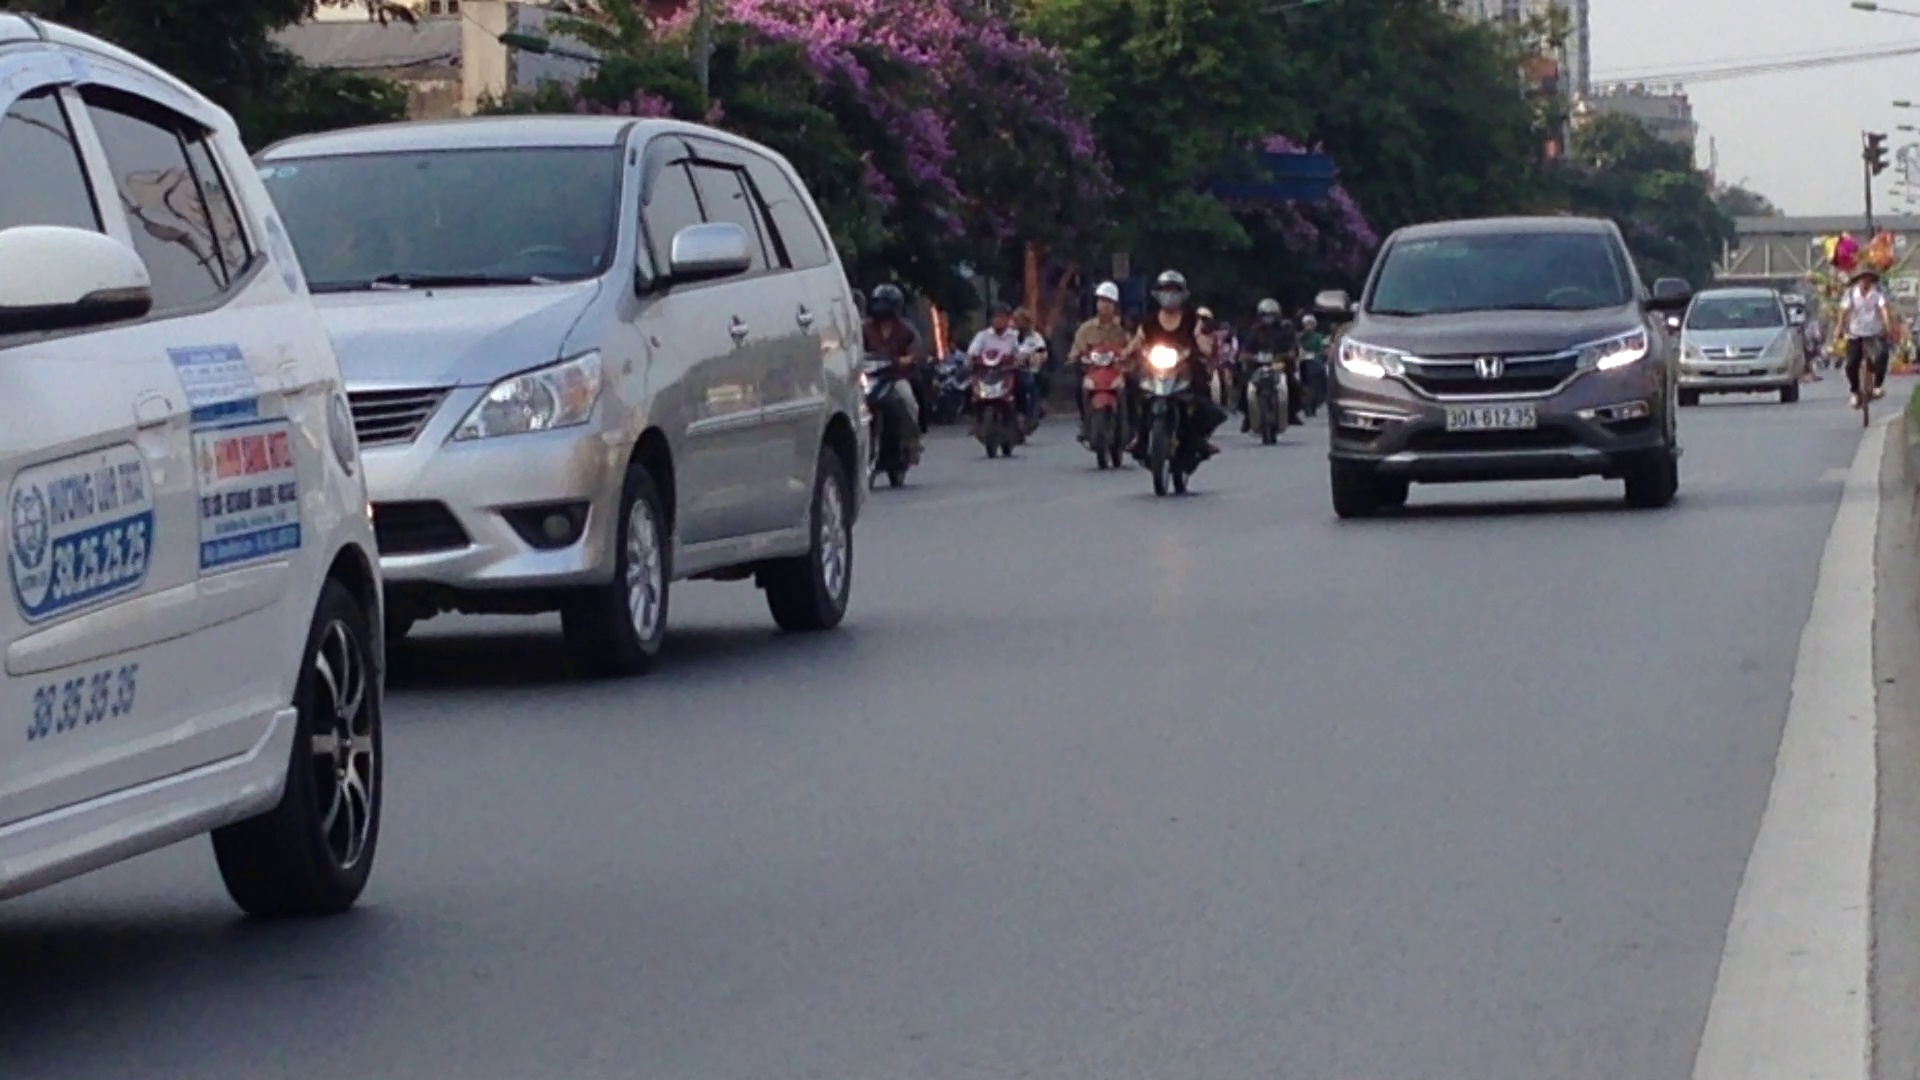vehicle-plate: (1441, 401, 1542, 434)
